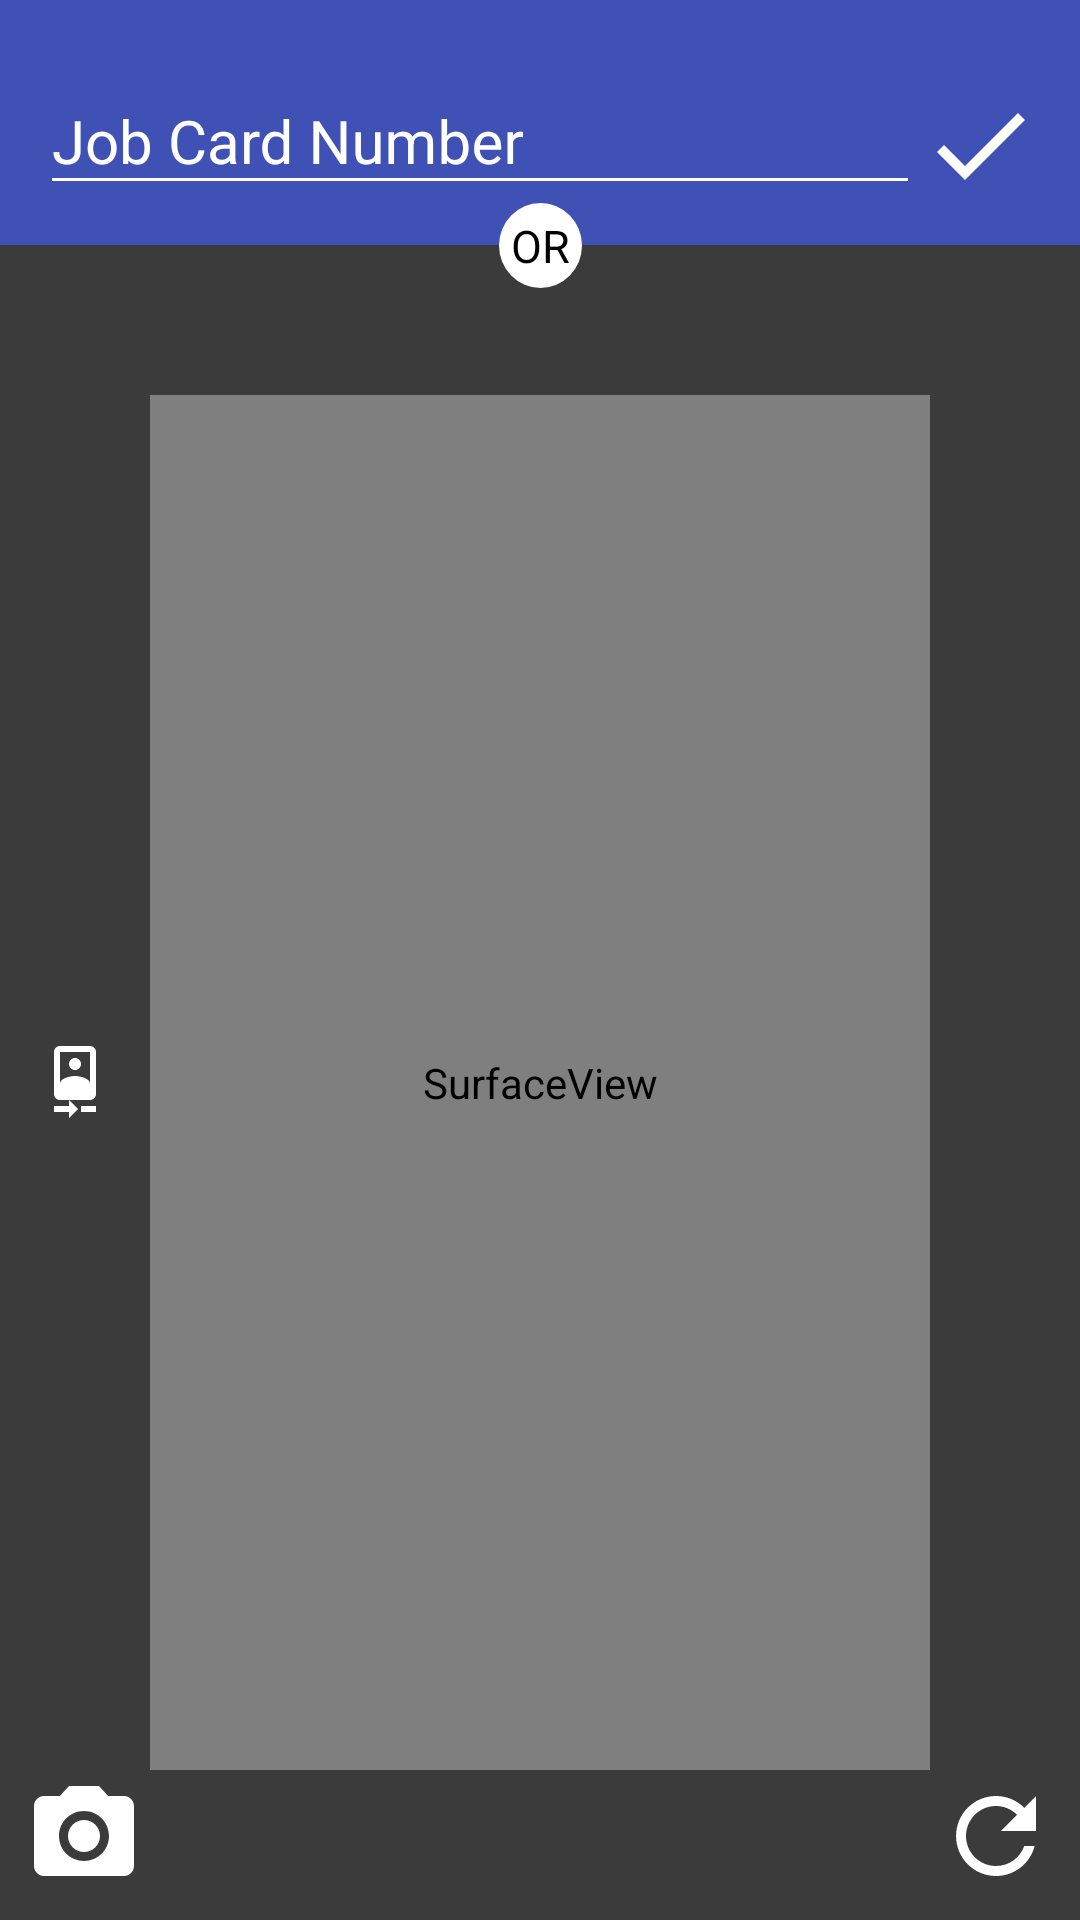

Icons on this 1080 × 1920 Android screen, each with the point to tap as [x,y]:
camera: [84,1831]
camera front: [75,1082]
done: [981,146]
refresh: [996,1836]
